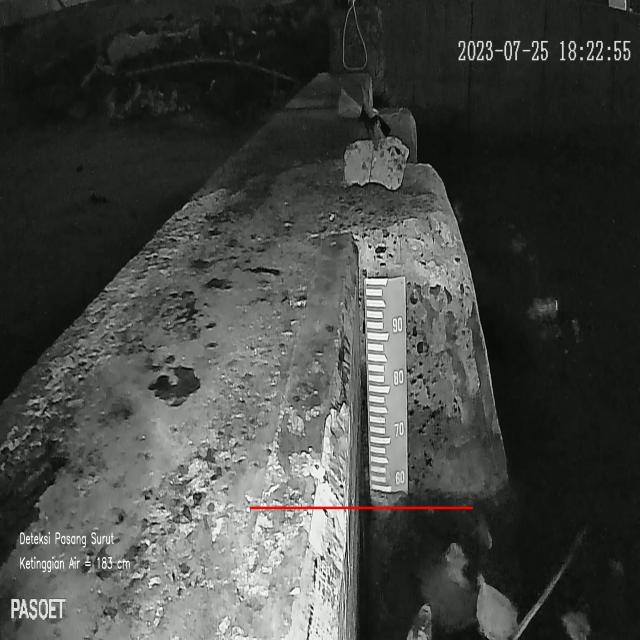60: (394, 469, 406, 487)
70: (394, 420, 405, 438)
80: (392, 368, 404, 386)
90: (392, 315, 403, 334)
staff: (364, 277, 407, 493)
